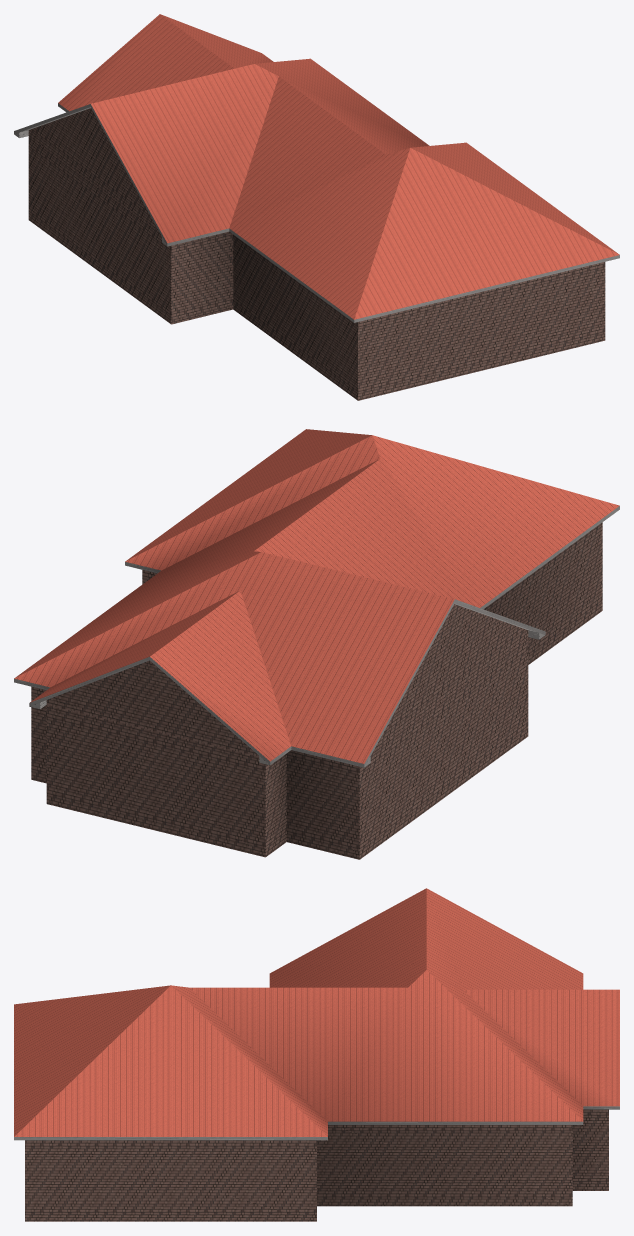
The model's file is house_021.glb.
3 renders of one model, top to bottom at view 1: azimuth 30°, elevation 25°; view 2: azimuth 150°, elevation 25°; view 3: azimuth 270°, elevation 25°, orthographic. The views are drawn at different scales.
Parts seen in each view (by area): view 1: Export; view 2: Export; view 3: Export.
Boxes of the visible parts, x1,y1,x2,y2 form: Export: (14, 14, 619, 400); Export: (14, 429, 619, 859); Export: (14, 888, 619, 1221).
Size of the model in its own units: 10.6 by 5.28 by 16.6.
3 materials, 3 textured.
